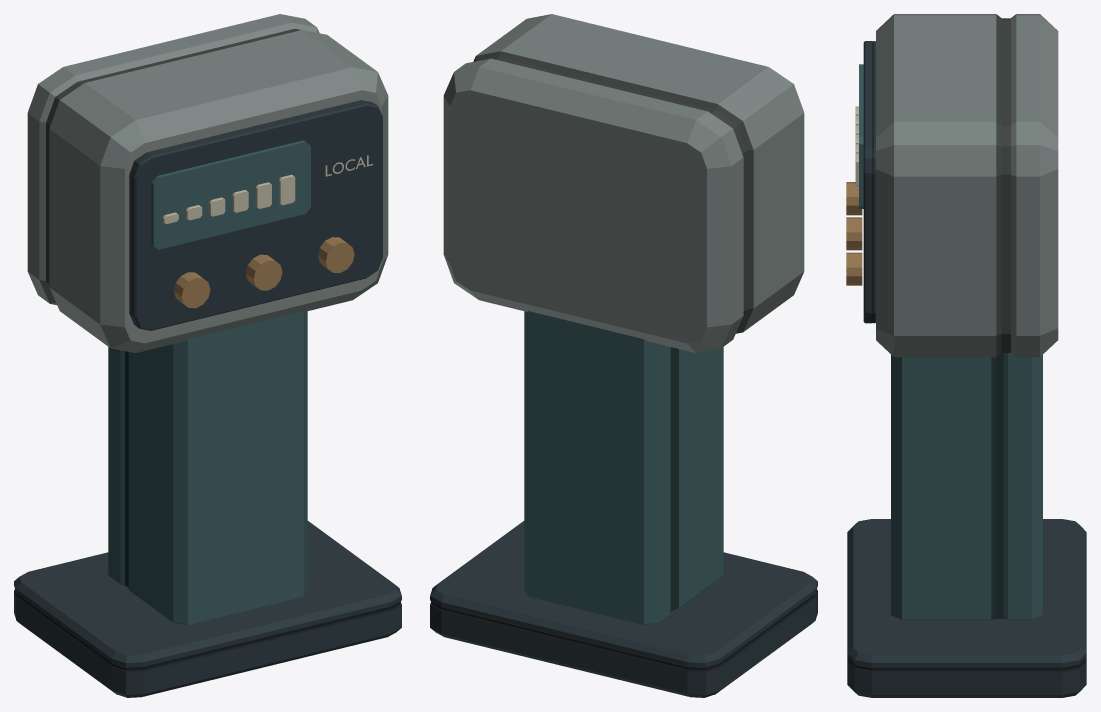
File: RX-02_local_controls.glb
3 views of the same model, side by side, from view 1: azimuth 30°, elevation 25°; view 2: azimuth 150°, elevation 25°; view 3: azimuth 270°, elevation 25° (orthographic).
Visible parts, largest first — view 1: RX-02_local_controls; view 2: RX-02_local_controls; view 3: RX-02_local_controls.
Boxes of the visible parts, bbox=[...] form: RX-02_local_controls: bbox=[14, 14, 401, 697]; RX-02_local_controls: bbox=[430, 14, 817, 697]; RX-02_local_controls: bbox=[846, 14, 1086, 697].
Bounding box in the file's own units: 0.88 × 1.63 × 0.633.
